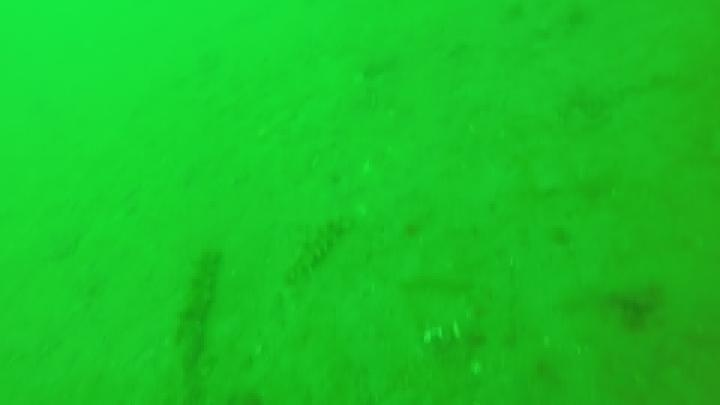holothurian: (169, 247, 226, 371), (282, 214, 351, 284)
